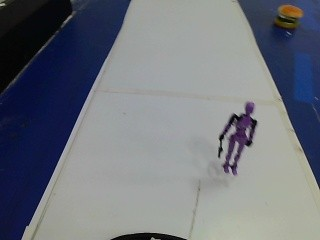burger: (270, 0, 304, 33)
pedestrian: (212, 99, 260, 180)
